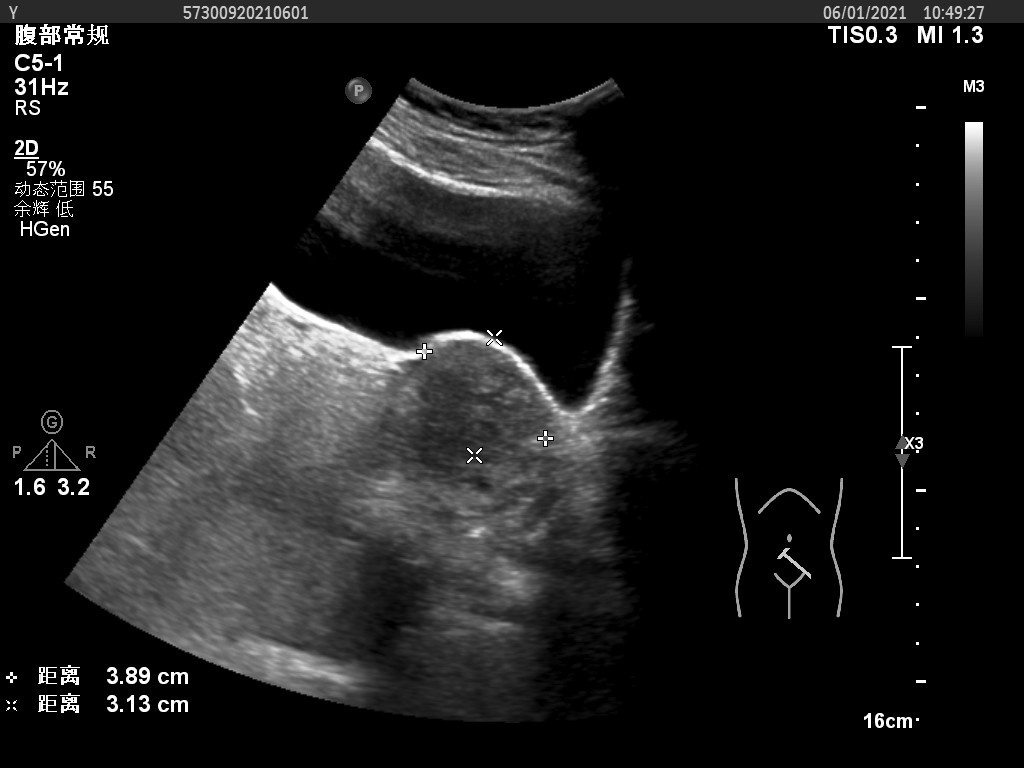肌瘤: (422, 331, 547, 457)
